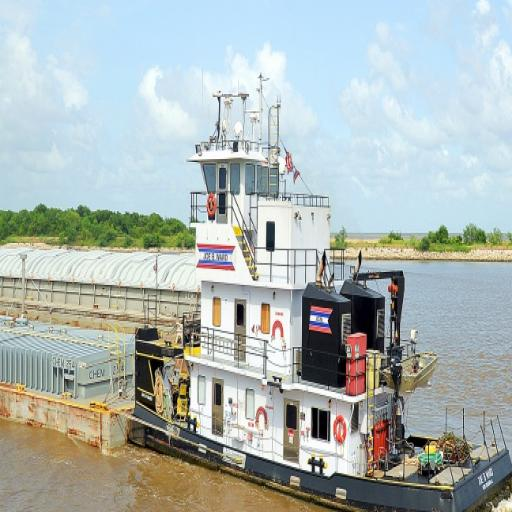tugboat: (122, 70, 512, 512)
